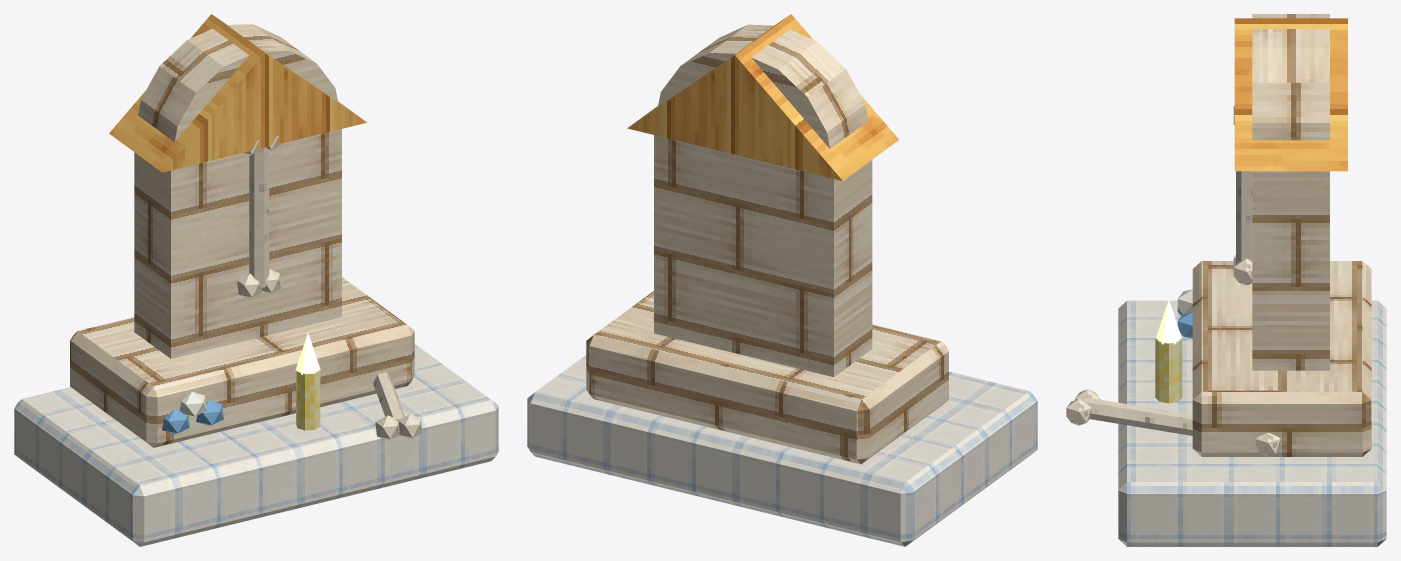
File: tower_marowak_shrine.glb
The picture shows the model from 3 angles, left to right: view 1: azimuth 30°, elevation 25°; view 2: azimuth 150°, elevation 25°; view 3: azimuth 270°, elevation 25°; orthographic projection. The views are drawn at different scales.
Visible parts, largest first — view 1: Shrine, Glow; view 2: Shrine; view 3: Shrine, Glow.
Boxes of the visible parts, left/top/right/bottom form: Shrine: left=14, top=14, right=498, bottom=546; Glow: left=295, top=332, right=320, bottom=374; Shrine: left=527, top=14, right=1037, bottom=546; Shrine: left=1066, top=14, right=1386, bottom=546; Glow: left=1156, top=299, right=1181, bottom=344.
Size of the model in its own units: 1.5 by 1.62 by 1.07.
9 materials, 5 textured.
